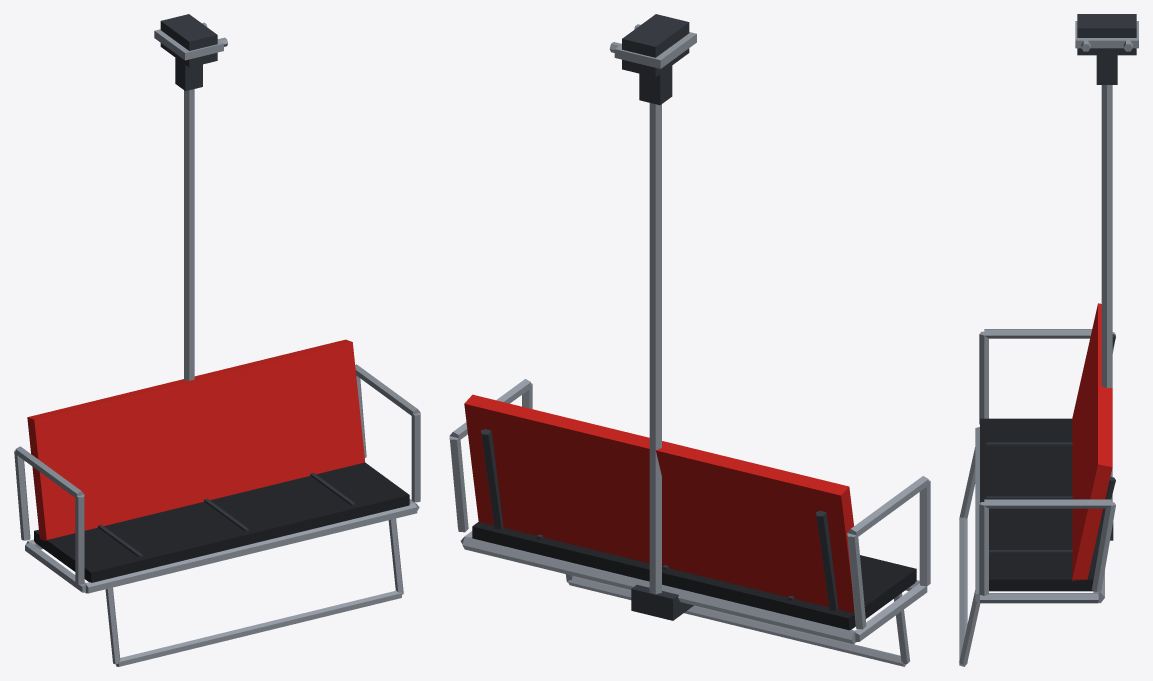
Rendered from chair.glb.
3 views of the same model, side by side, from view 1: azimuth 30°, elevation 25°; view 2: azimuth 150°, elevation 25°; view 3: azimuth 270°, elevation 25° (orthographic). The views are drawn at different scales.
Parts seen in each view (by area): view 1: chair; view 2: chair; view 3: chair.
Boxes of the visible parts, x1=… form: chair: x1=14, y1=14, x2=420, y2=666; chair: x1=449, y1=14, x2=930, y2=666; chair: x1=959, y1=14, x2=1138, y2=666.
Size of the model in its own units: 1.94 by 2.99 by 0.8487.
